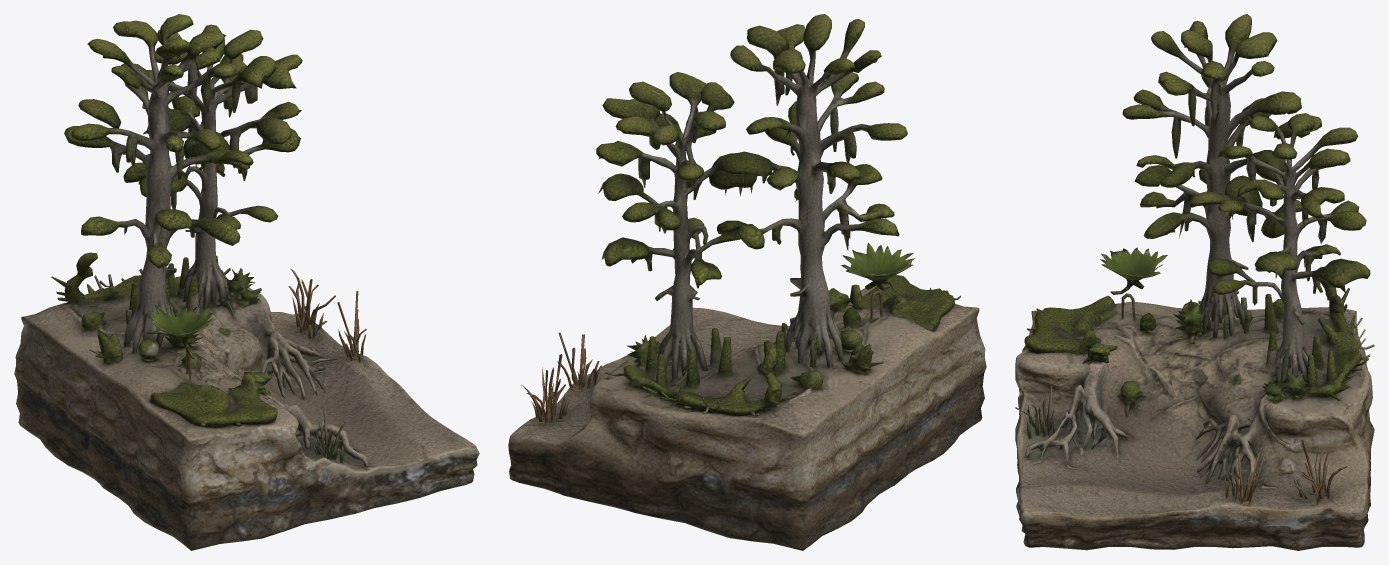
Rendered from landscape.glb.
3 renders of one model, left to right at view 1: azimuth 30°, elevation 25°; view 2: azimuth 150°, elevation 25°; view 3: azimuth 270°, elevation 25°, orthographic. The views are drawn at different scales.
Visible parts, largest first — view 1: tripo_node_99c1f4c2-97ee-4c7f-8740-ad9ff5129fcc; view 2: tripo_node_99c1f4c2-97ee-4c7f-8740-ad9ff5129fcc; view 3: tripo_node_99c1f4c2-97ee-4c7f-8740-ad9ff5129fcc.
Boxes of the visible parts, x1=… form: tripo_node_99c1f4c2-97ee-4c7f-8740-ad9ff5129fcc: x1=14, y1=14, x2=479, y2=550; tripo_node_99c1f4c2-97ee-4c7f-8740-ad9ff5129fcc: x1=508, y1=14, x2=986, y2=550; tripo_node_99c1f4c2-97ee-4c7f-8740-ad9ff5129fcc: x1=1015, y1=14, x2=1374, y2=550.
Bounding box in the file's own units: 0.7287 × 0.9773 × 0.7555.
Materials: 1 (1 with a texture image).
